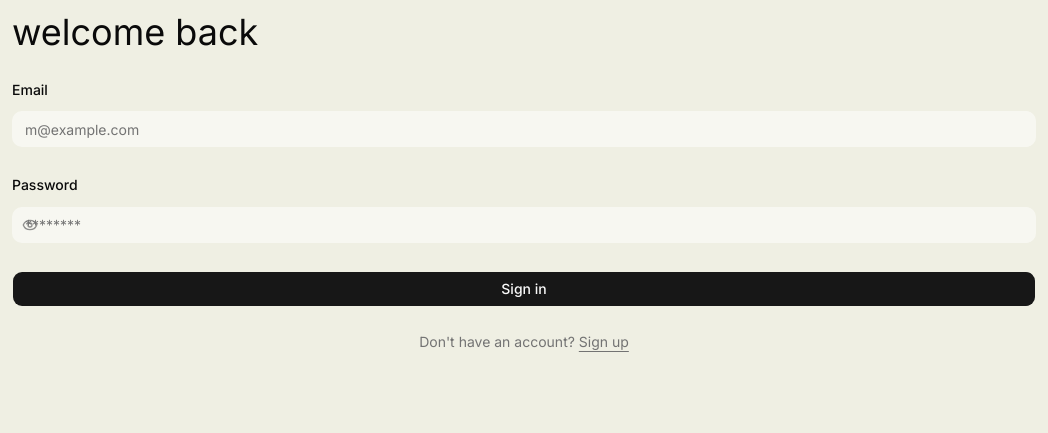
Test: LoginForm › Validation › shows errors when submitting an empty form
This screenshot has width=1048, height=433.
Click the button "Sign in".
click(524, 288)  # box [12,270,1036,306]
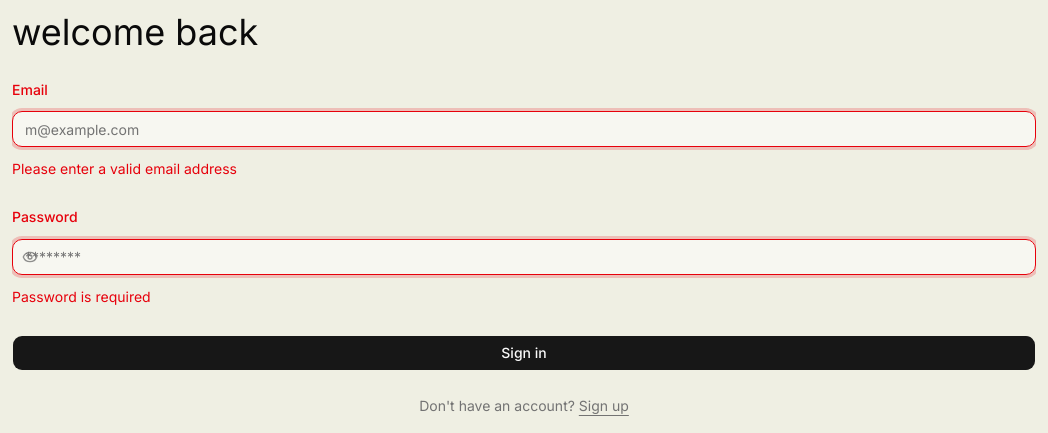
Check: the text "Please enter a valid email address" is shown, box [12,160,237,177]
Check: the text "Password is required" is shown, box [12,288,151,304]
